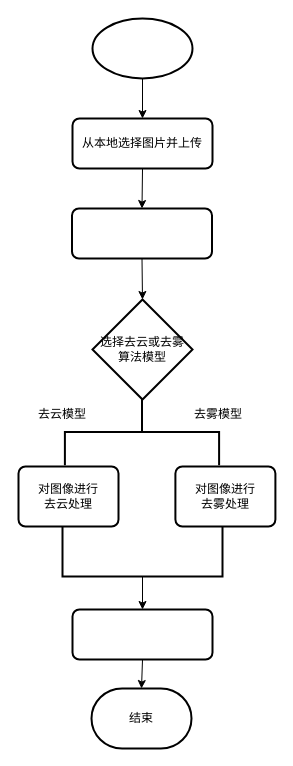
Image size: 293x766. Some labels were removed from this diagram. The box of each missing label's shape, as (x1, y1, x2, y2) in pixels:
图片预处理: (70, 207, 212, 259)
开始: (91, 17, 193, 79)
返回去云或去雾后的 结果图像: (71, 608, 213, 660)
